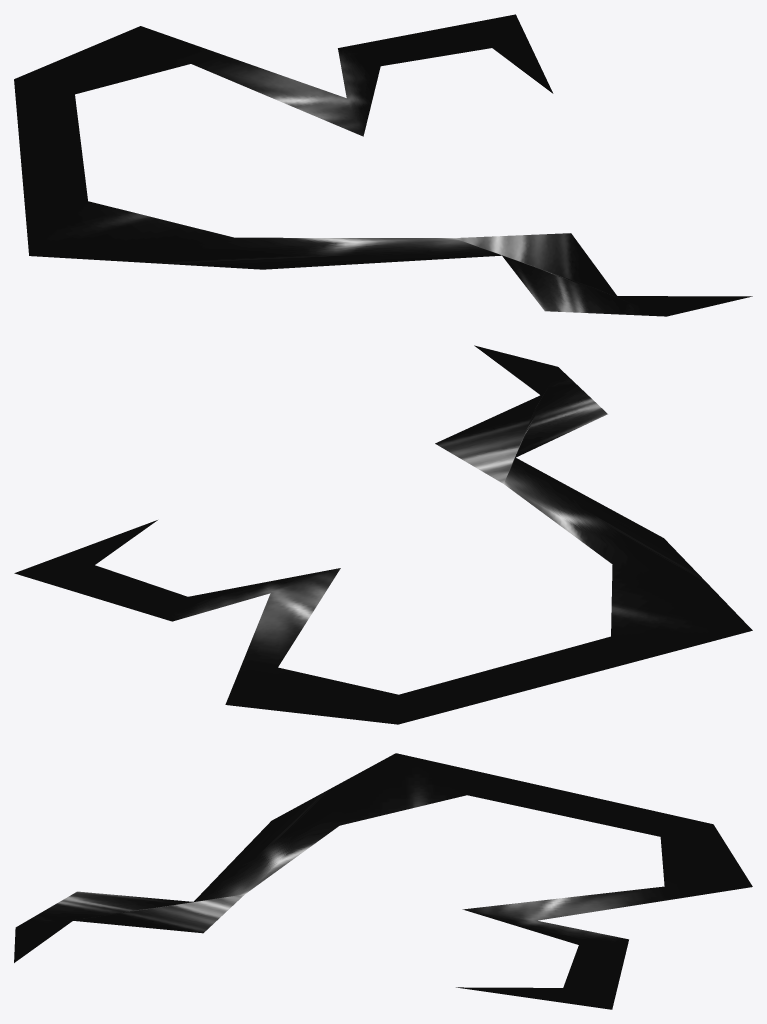
File: 0465_widetunder.glb
3 renders of one model, top to bottom at view 1: azimuth 30°, elevation 25°; view 2: azimuth 150°, elevation 25°; view 3: azimuth 270°, elevation 25°, orthographic. The views are drawn at different scales.
Size of the model in its own units: 1.81 by 1.35e-16 by 2.2.
Materials: 1 (1 with a texture image).
